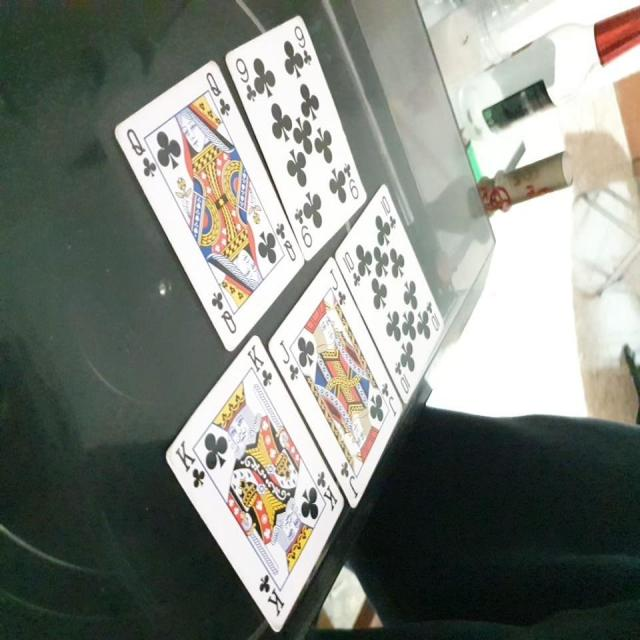10 Trefoils: (334, 184, 446, 405)
9 Trefoils: (223, 11, 366, 260)
J Trefoils: (269, 253, 405, 508)
K Trefoils: (163, 333, 345, 634)
Q Trefoils: (112, 58, 306, 351)
